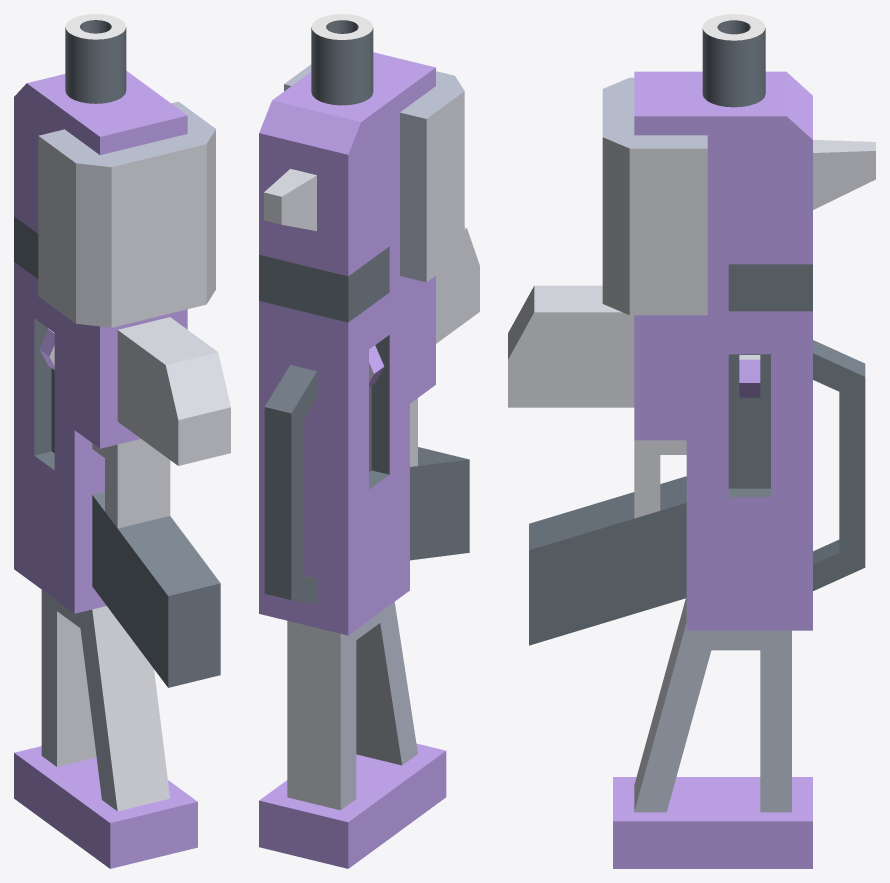
Rendered from ar_blaster.fbx.
3 views of the same model, side by side, from view 1: azimuth 30°, elevation 25°; view 2: azimuth 150°, elevation 25°; view 3: azimuth 270°, elevation 25° (orthographic). The views are drawn at different scales.
Parts seen in each view (by area): view 1: blasterD; view 2: blasterD; view 3: blasterD.
Boxes of the visible parts, box(x1,y1,x2,y2) form: blasterD: box(14, 14, 230, 868); blasterD: box(259, 14, 479, 868); blasterD: box(508, 14, 875, 868).
Size of the model in its own units: 16 by 86 by 35.
